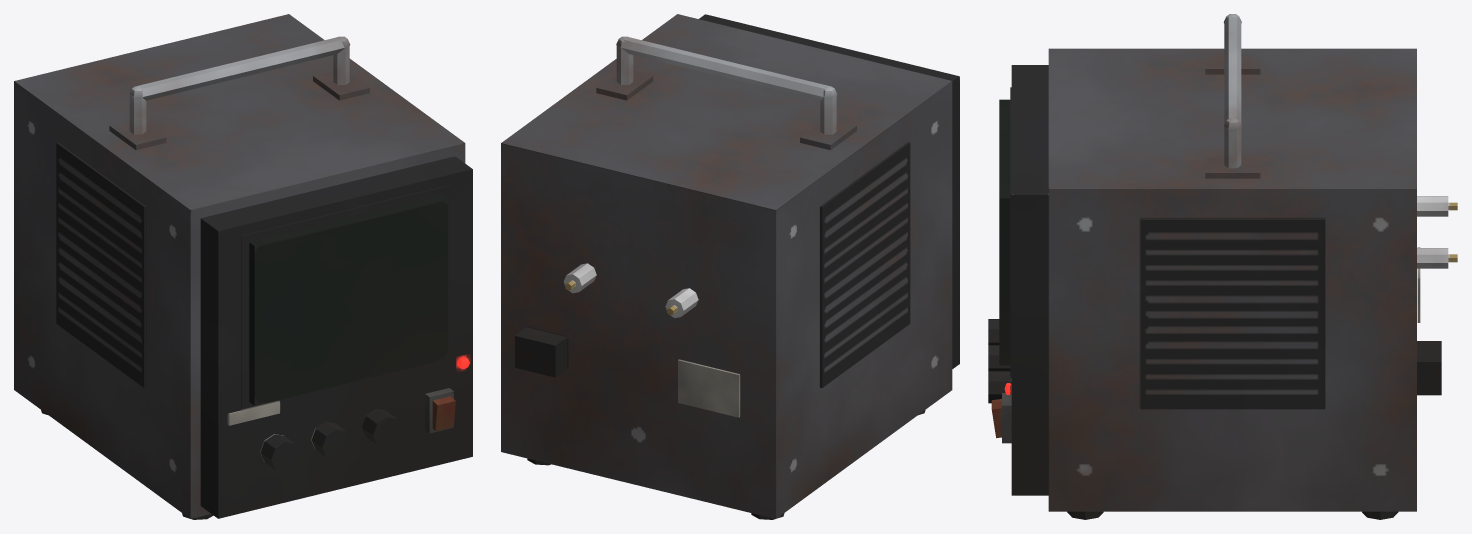
The model's file is CCTV_Monitor_low.fbx.
The picture shows the model from 3 angles, left to right: view 1: azimuth 30°, elevation 25°; view 2: azimuth 150°, elevation 25°; view 3: azimuth 270°, elevation 25°; orthographic projection. The views are drawn at different scales.
Parts seen in each view (by area): view 1: CCTV_Monitor_low; view 2: CCTV_Monitor_low; view 3: CCTV_Monitor_low.
Boxes of the visible parts, x1=… form: CCTV_Monitor_low: x1=14, y1=14, x2=472, y2=519; CCTV_Monitor_low: x1=501, y1=14, x2=959, y2=519; CCTV_Monitor_low: x1=988, y1=14, x2=1457, y2=519.
Bounding box in the file's own units: 0.274 × 0.3495 × 0.382.
1 material, 1 textured.
